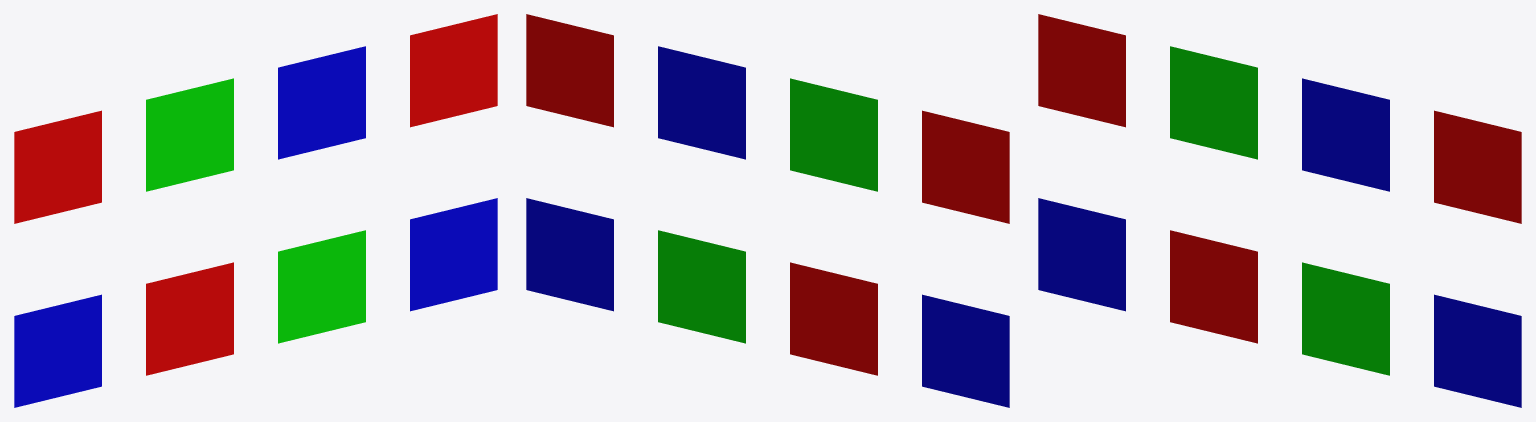
The model's file is InstancesCalculate.fbx.
The picture shows the model from 3 angles, left to right: view 1: azimuth 30°, elevation 25°; view 2: azimuth 150°, elevation 25°; view 3: azimuth 330°, elevation 25°; orthographic projection.
Visible parts, largest first — view 1: Panels0, Panels1; view 2: Panels0, Panels1; view 3: Panels0, Panels1.
Boxes of the visible parts, left/top/right/bottom form: Panels0: left=14, top=198, right=497, bottom=407; Panels1: left=14, top=14, right=497, bottom=223; Panels0: left=526, top=198, right=1009, bottom=407; Panels1: left=526, top=14, right=1009, bottom=223; Panels0: left=1038, top=198, right=1521, bottom=407; Panels1: left=1038, top=14, right=1521, bottom=223.
Size of the model in its own units: 5.5 by 3 by 0.
